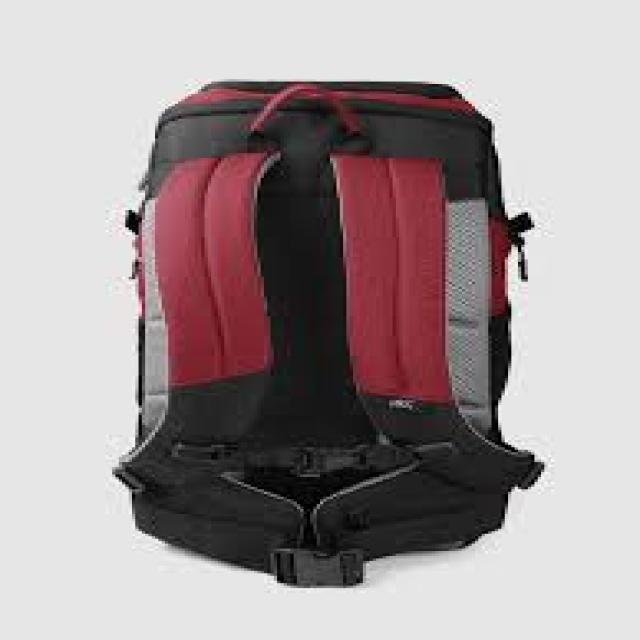backpack: (113, 80, 545, 587)
